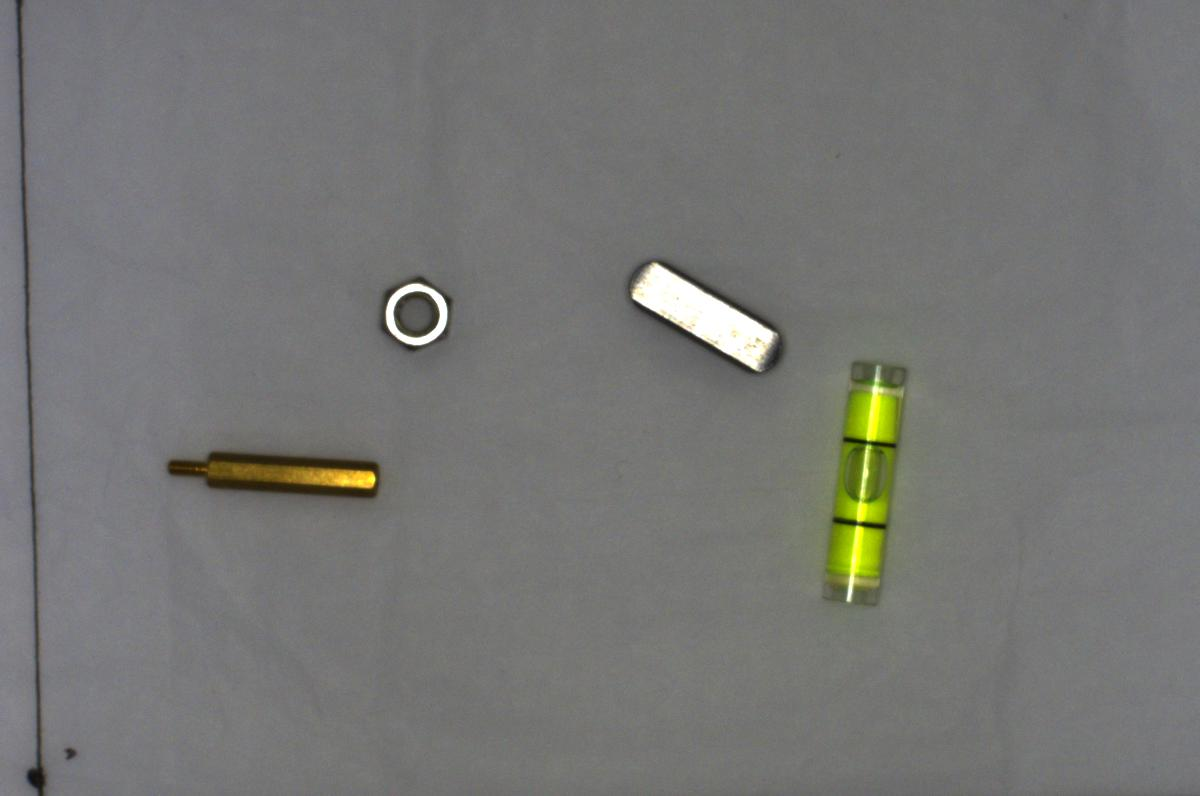Hexagon nut: (370, 269, 455, 358)
Hexagon pillar: (152, 441, 386, 512)
Horizontal bubble: (810, 352, 919, 615)
Keybar: (621, 252, 791, 380)
